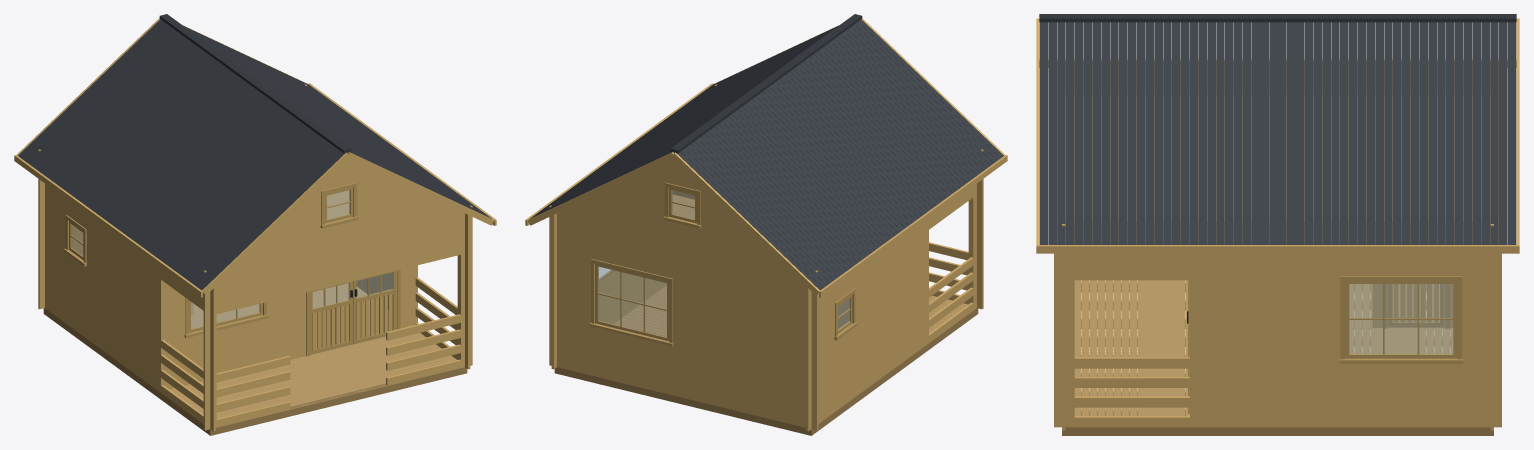
Rendered from али_5_5_6_44_мм_2_этажа_терраса.glb.
The picture shows the model from 3 angles, left to right: view 1: azimuth 30°, elevation 25°; view 2: azimuth 150°, elevation 25°; view 3: azimuth 270°, elevation 25°; orthographic projection. The views are drawn at different scales.
Parts seen in each view (by area): view 1: roof, walls, floor, Али 5×5,6 (44 мм, 2 этажа, терраса), object 47, object 33, object 15, object 101, slab; view 2: walls, roof, object 121, Али 5×5,6 (44 мм, 2 этажа, терраса), floor, object 111; view 3: roof, walls, floor, object 143, slab, Али 5×5,6 (44 мм, 2 этажа, терраса), object 150, object 142, object 149, object 147.
Part boxes in pixels (x1,y1,x2,y2): roof: [14, 14, 496, 297]; walls: [38, 84, 472, 431]; floor: [170, 283, 456, 418]; Али 5×5,6 (44 мм, 2 этажа, терраса): [43, 308, 467, 435]; object 47: [191, 303, 259, 328]; object 33: [357, 272, 392, 297]; object 15: [313, 283, 348, 308]; object 101: [327, 190, 349, 219]; slab: [327, 190, 349, 218]; walls: [549, 84, 983, 431]; roof: [525, 14, 1007, 297]; object 121: [598, 266, 666, 337]; Али 5×5,6 (44 мм, 2 этажа, терраса): [554, 308, 978, 435]; floor: [614, 285, 967, 336]; object 111: [672, 190, 694, 219]; roof: [1036, 14, 1519, 253]; walls: [1054, 59, 1501, 430]; floor: [1074, 280, 1453, 415]; object 143: [1349, 284, 1452, 353]; slab: [1065, 95, 1490, 219]; Али 5×5,6 (44 мм, 2 этажа, терраса): [1062, 282, 1493, 435]; object 150: [1339, 358, 1462, 363]; object 142: [1345, 353, 1456, 358]; object 149: [1340, 276, 1457, 280]; object 147: [1340, 276, 1345, 359].
Bounding box in the file's own units: 5.53 × 4.66 × 6.04.
